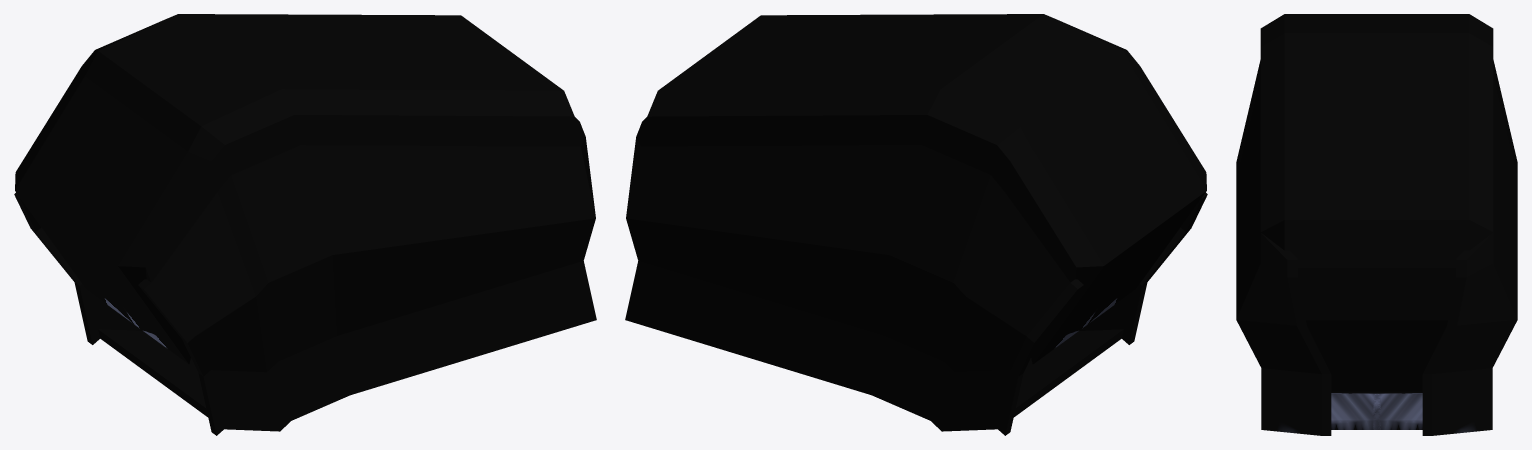
File: cockPit2.fbx
3 views of the same model, side by side, from view 1: azimuth 30°, elevation 25°; view 2: azimuth 150°, elevation 25°; view 3: azimuth 270°, elevation 25° (orthographic). The views are drawn at different scales.
Visible parts, largest first — view 1: Cube; view 2: Cube; view 3: Cube.
Part boxes in pixels (x1,y1,x2,y2): Cube: (14,14,596,435); Cube: (625,14,1207,435); Cube: (1236,14,1517,435).
Size of the model in its own units: 1961 by 1269 by 1098.
